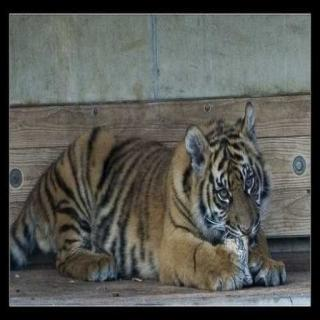Tiger: (9, 91, 302, 298)
